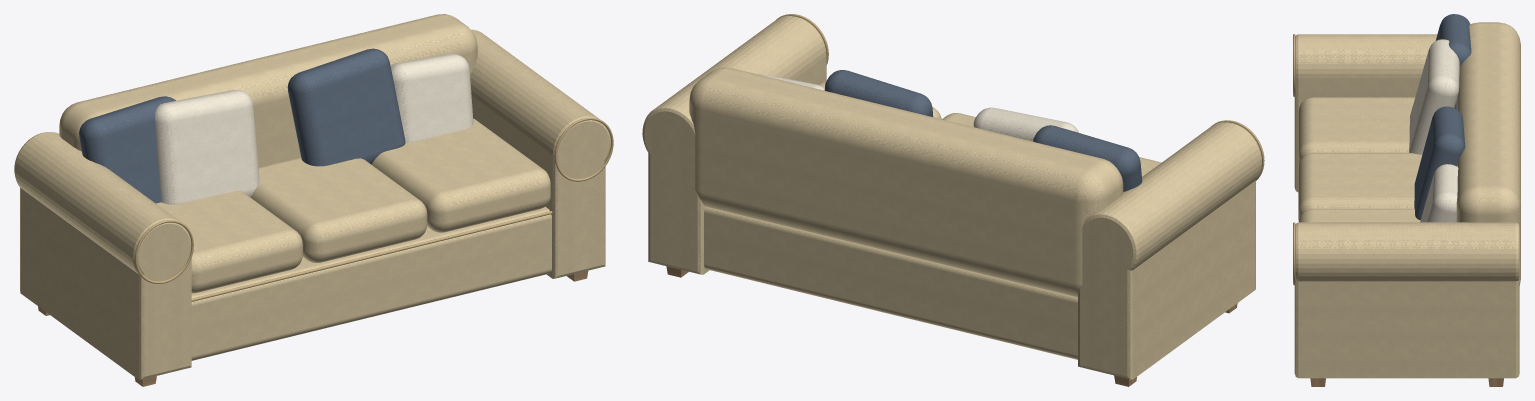
Rendered from sofa-3-plazas.glb.
3 renders of one model, left to right at view 1: azimuth 30°, elevation 25°; view 2: azimuth 150°, elevation 25°; view 3: azimuth 270°, elevation 25°, orthographic. The views are drawn at different scales.
Parts seen in each view (by area): view 1: sofa-3-plazas; view 2: sofa-3-plazas; view 3: sofa-3-plazas.
Boxes of the visible parts, x1,y1,x2,y2 form: sofa-3-plazas: [14, 14, 613, 386]; sofa-3-plazas: [642, 14, 1264, 386]; sofa-3-plazas: [1293, 14, 1520, 386].
Bounding box in the file's own units: 2.05 × 0.85 × 0.92.
Materials: 5 (4 with a texture image).
